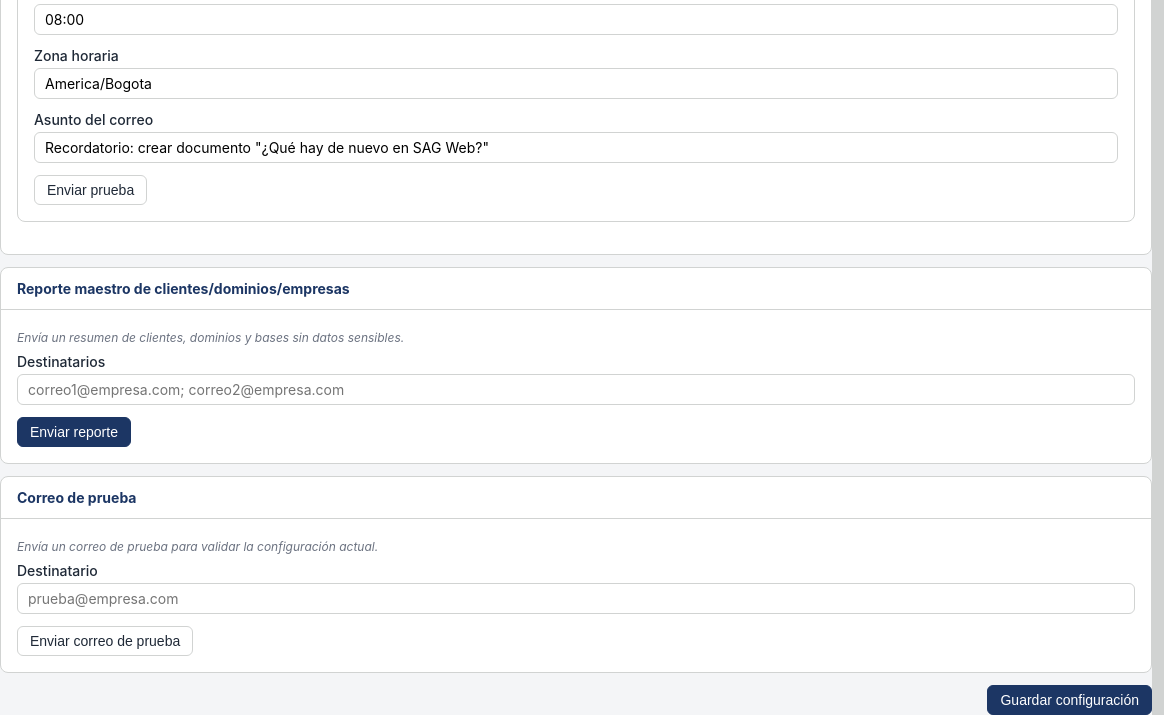
Test: AlertasCorreosPage › permite enviar correo de prueba
(page scrolled)
Type "destino@x.com" into the field with placeholder "prueba@empresa.com" at (576, 599), box [17, 583, 1135, 614]
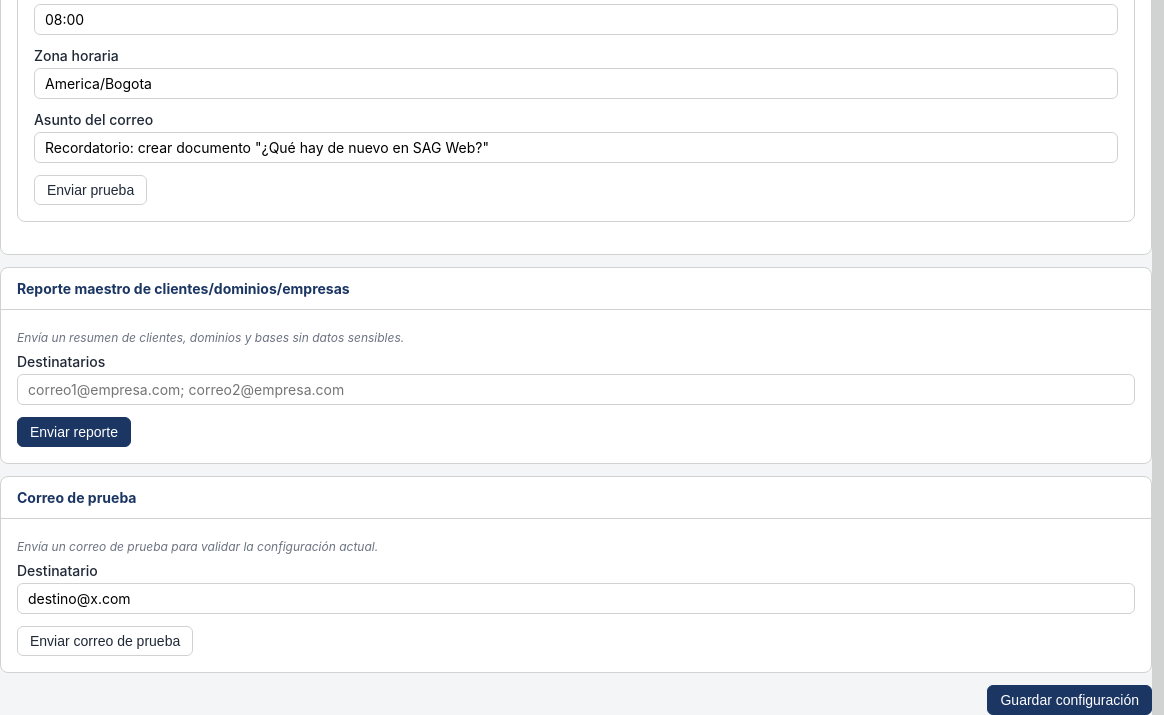
Click the button "Enviar correo de prueba" at (105, 641), box [17, 626, 193, 656]
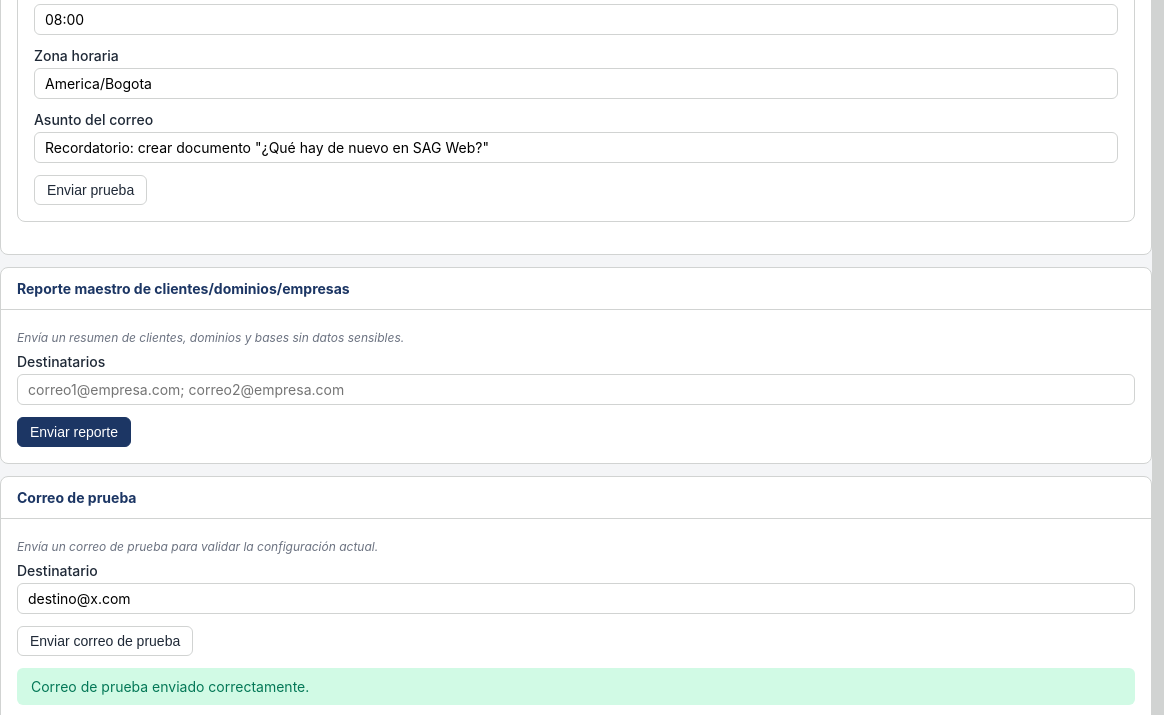
Result: the text "Correo de prueba enviado correctamente." is shown at [17, 668, 1135, 705]
